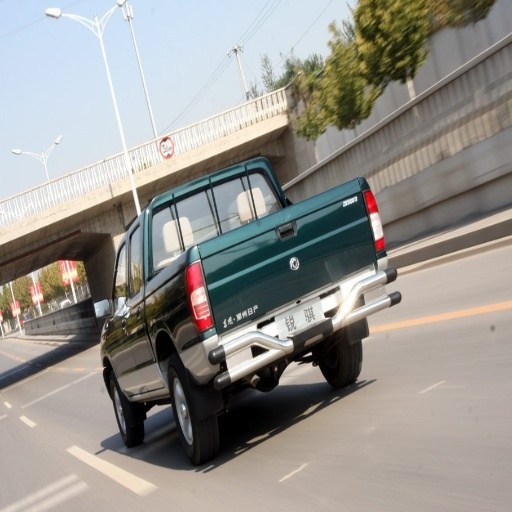trunk: (236, 202, 370, 312)
